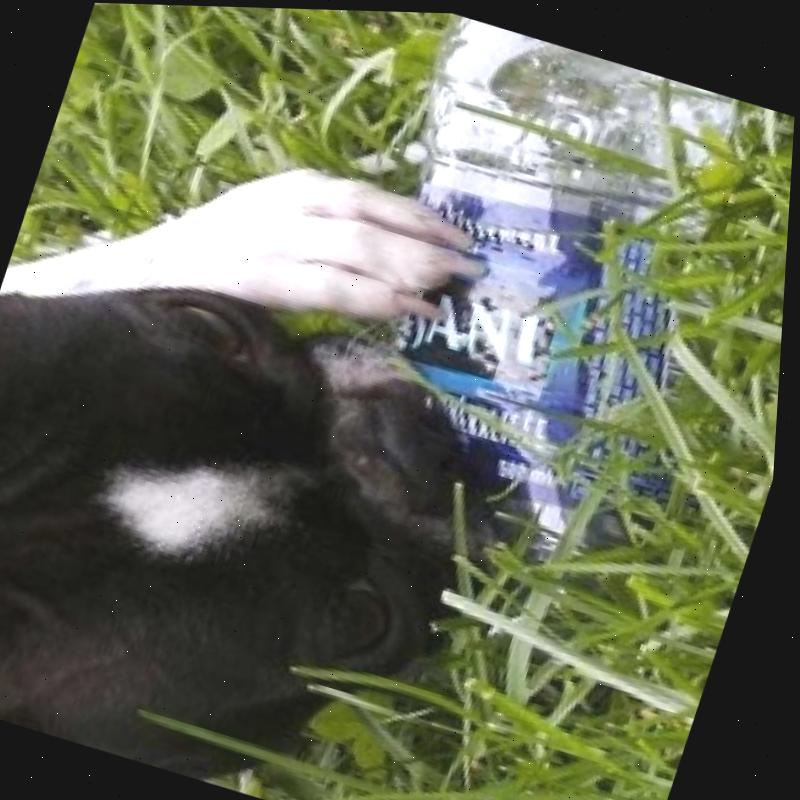botella: (289, 7, 795, 612)
